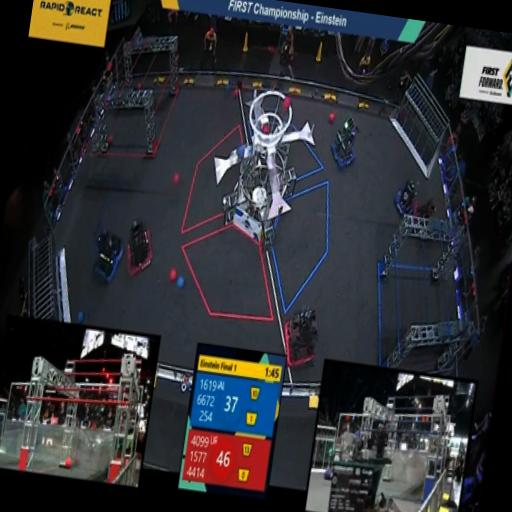robot: (275, 298, 326, 376), (84, 218, 128, 293), (119, 216, 160, 286), (323, 114, 363, 180), (405, 187, 440, 250), (384, 173, 419, 223)
